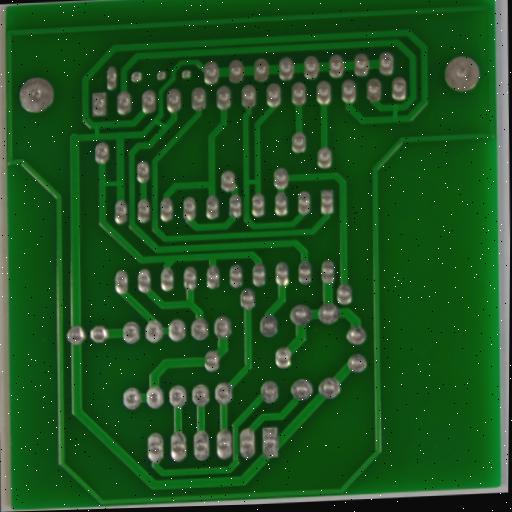short_circuit: (95, 175, 127, 194), (146, 114, 173, 136), (384, 101, 404, 127), (87, 121, 106, 145), (240, 174, 264, 191)
